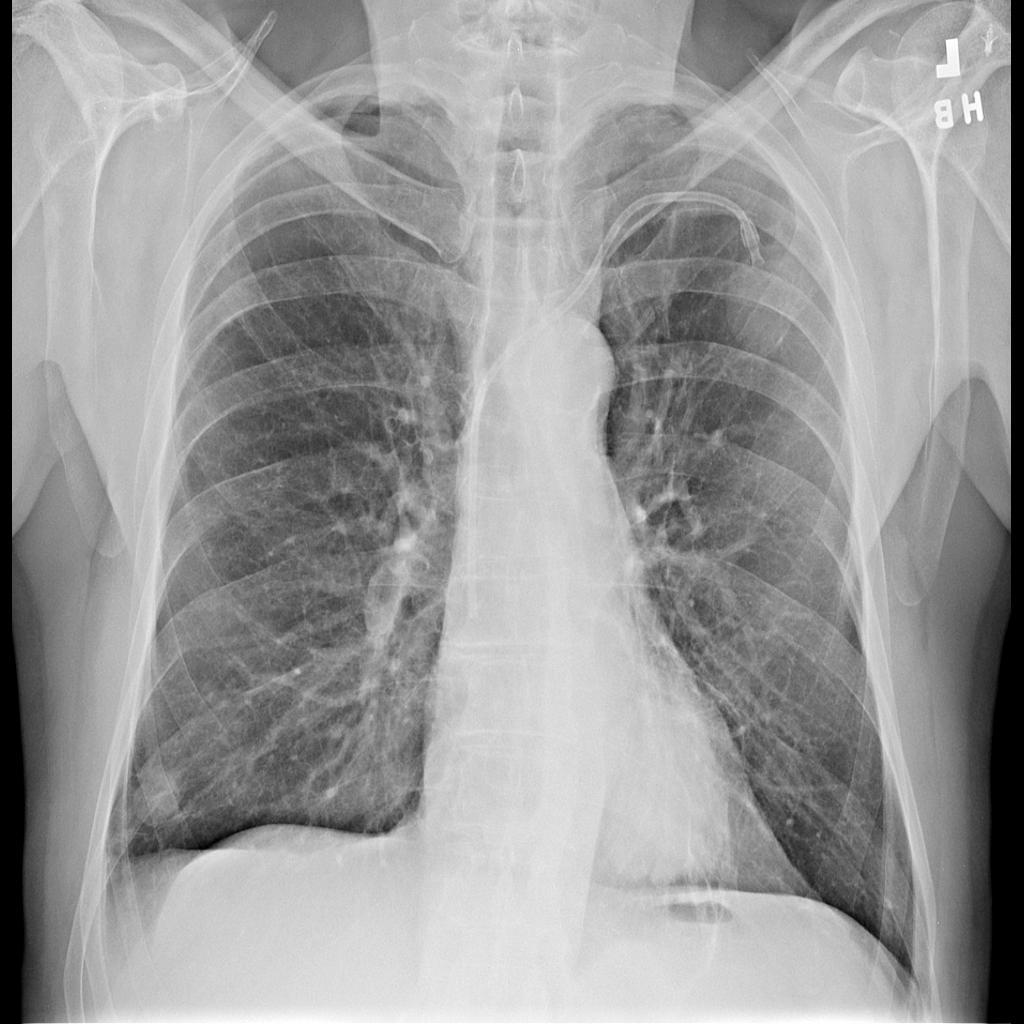Nodule: (135, 765, 194, 838)
